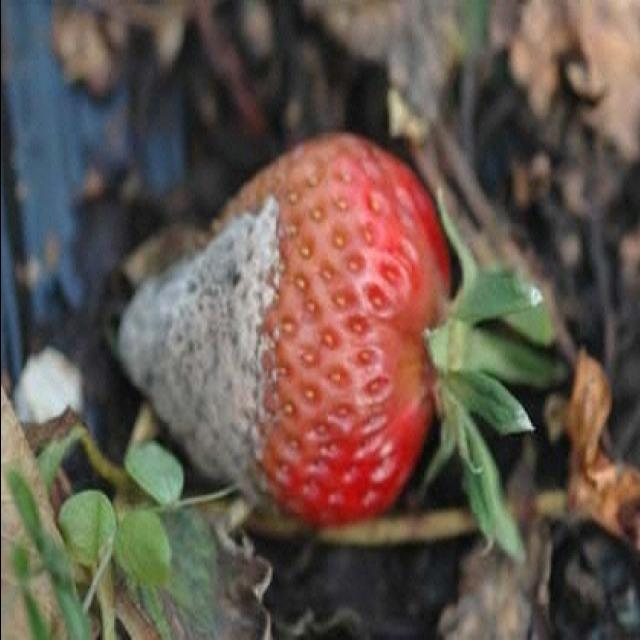Gray Mold: (117, 160, 292, 523)
